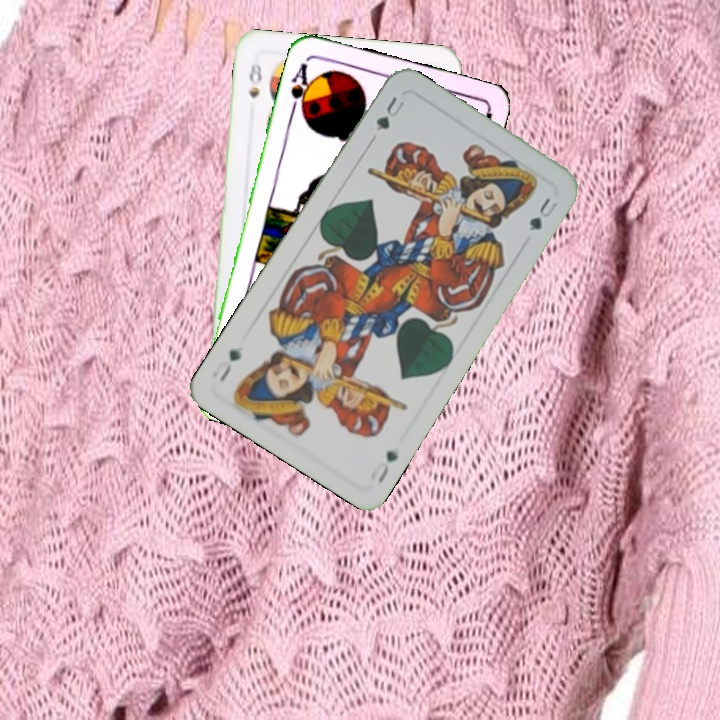GU: (372, 92, 408, 134), (370, 446, 402, 486)
S8: (244, 58, 265, 101)
SA: (286, 56, 316, 117)
